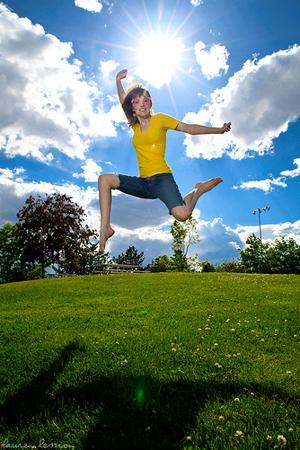person: (98, 69, 232, 257)
